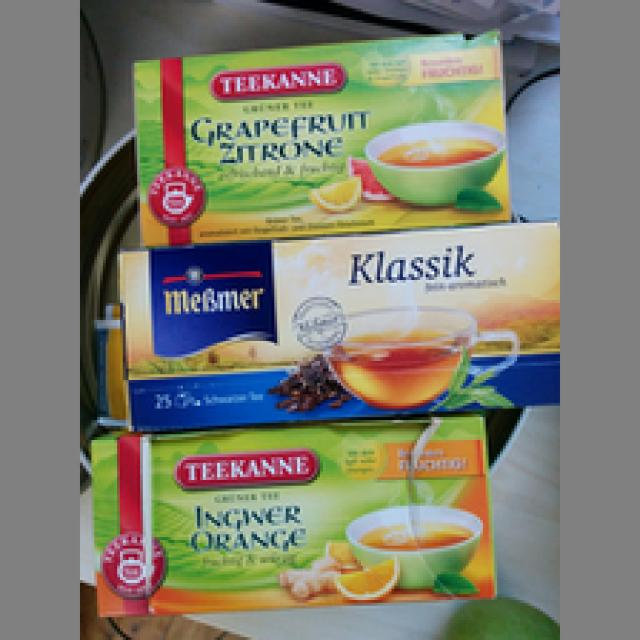groceries: (114, 217, 557, 429), (126, 23, 511, 246), (89, 414, 497, 620)
